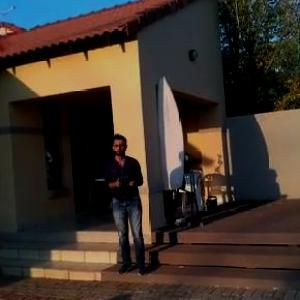follow: (101, 130, 149, 280)
